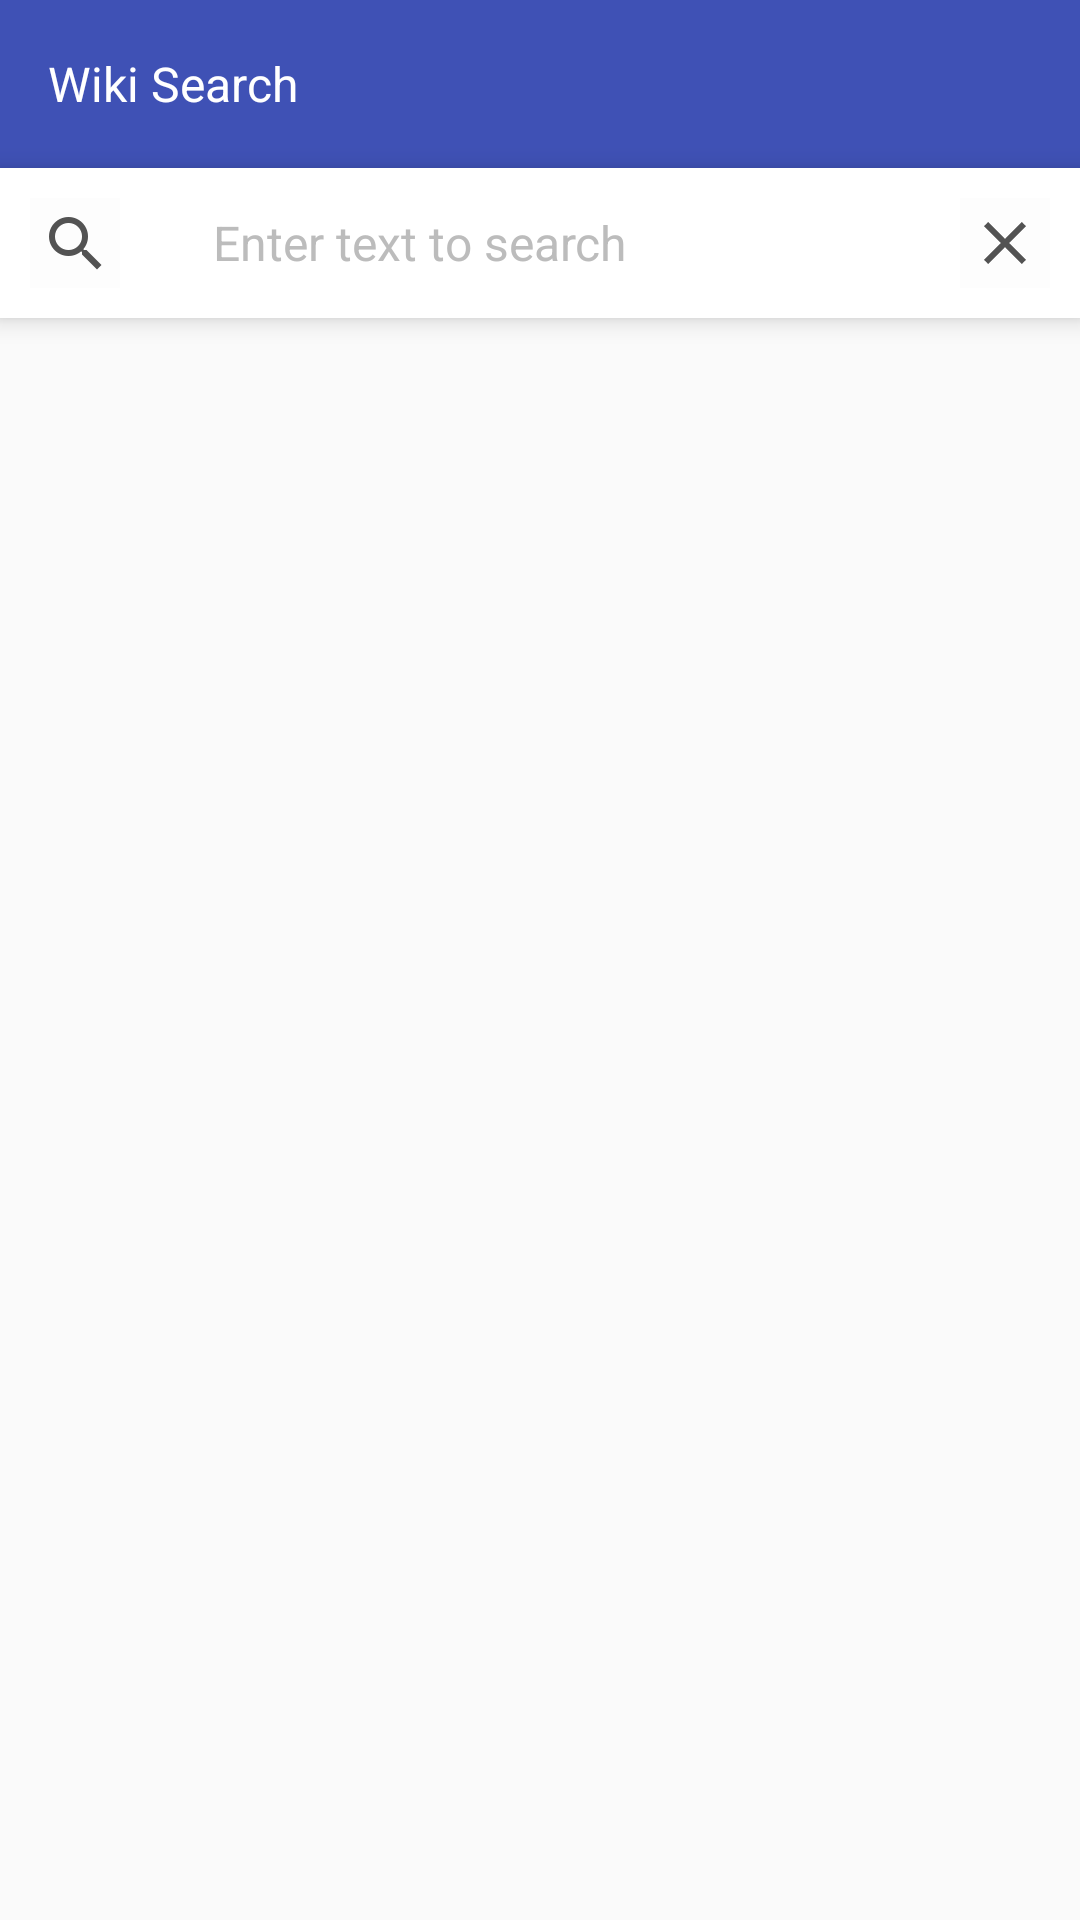

Named icons in this screenshot (1080w x 1920h) and their bounding boxes, (x1, y1, x2, y2):
close: (984, 222, 1026, 264)
